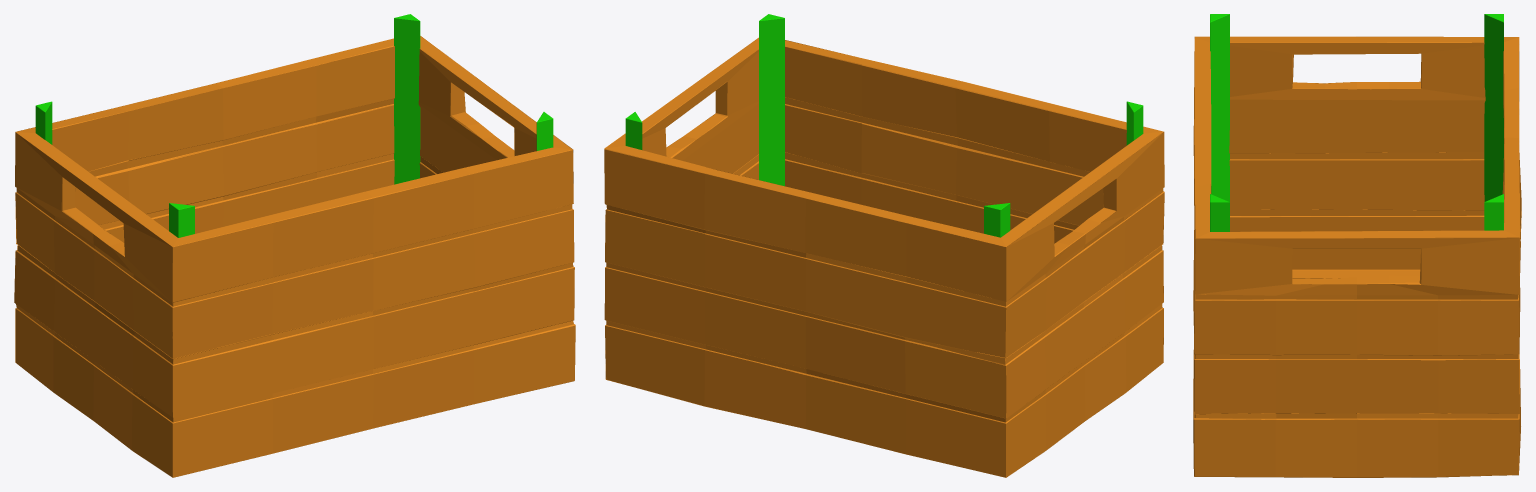
The model's file is Basket.fbx.
3 views of the same model, side by side, from view 1: azimuth 30°, elevation 25°; view 2: azimuth 150°, elevation 25°; view 3: azimuth 270°, elevation 25° (orthographic). The views are drawn at different scales.
Parts seen in each view (by area): view 1: Basket-Walls, Basket-stem; view 2: Basket-Walls, Basket-stem; view 3: Basket-Walls, Basket-stem.
Part boxes in pixels (box(x1,y1,x2,y2)): Basket-Walls: box(14, 36, 575, 477); Basket-stem: box(35, 14, 553, 237); Basket-Walls: box(604, 37, 1164, 477); Basket-stem: box(625, 14, 1143, 237); Basket-Walls: box(1193, 36, 1521, 477); Basket-stem: box(1210, 14, 1503, 231).
Bounding box in the file's own units: 296 × 182 × 202.
